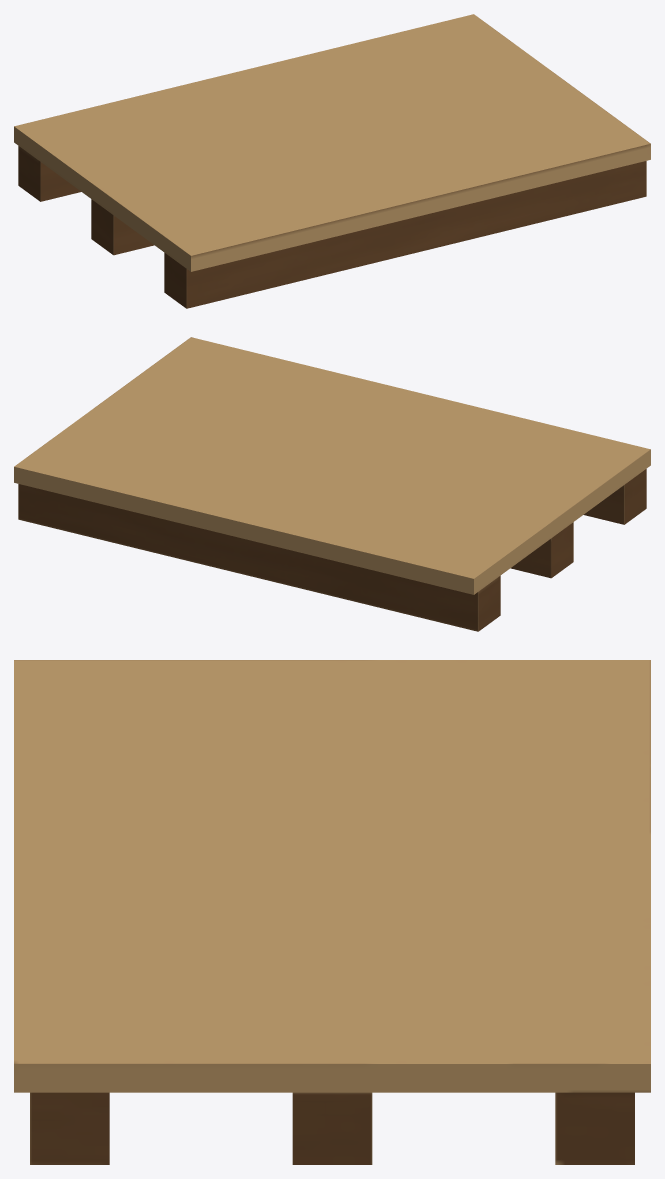
File: paleta_4f7517d6.glb
3 views of the same model, one above another, from view 1: azimuth 30°, elevation 25°; view 2: azimuth 150°, elevation 25°; view 3: azimuth 270°, elevation 25° (orthographic). The views are drawn at different scales.
Visible parts, largest first — view 1: dum; view 2: dum; view 3: dum.
Part boxes in pixels (<box>): dum: <box>14,14,650,308</box>; dum: <box>14,337,650,631</box>; dum: <box>14,660,650,1164</box>.
Bounding box in the file's own units: 1.2 × 0.1396 × 0.798.
1 material, 1 textured.
